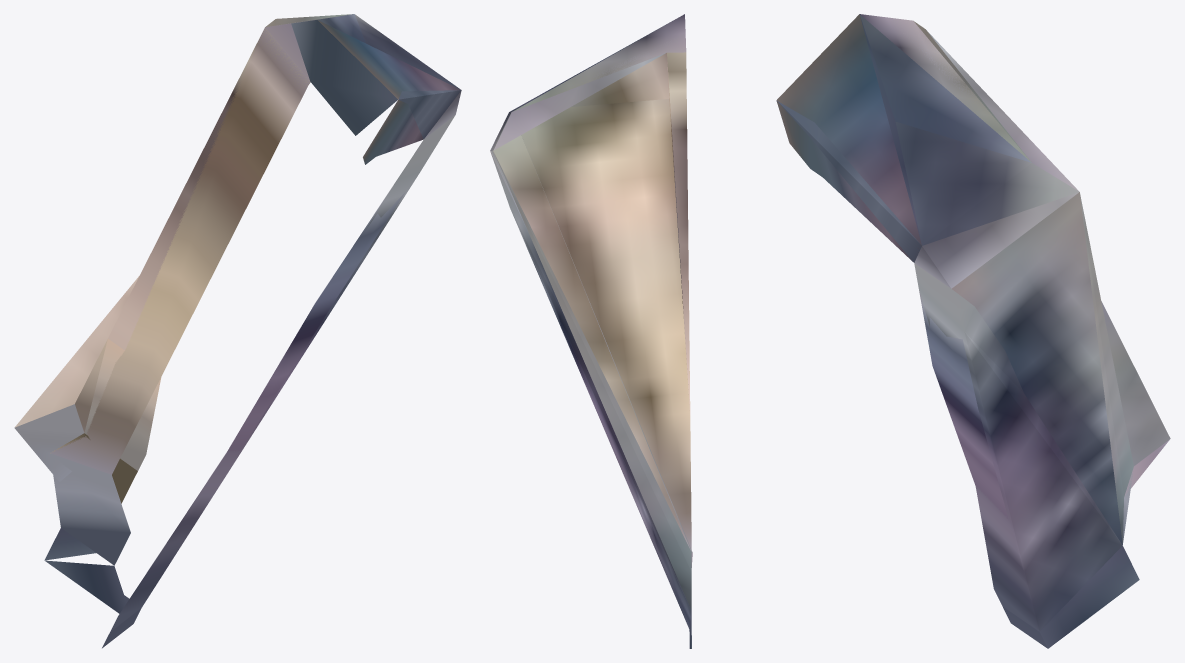
3 views of the same model, side by side, from view 1: azimuth 30°, elevation 25°; view 2: azimuth 150°, elevation 25°; view 3: azimuth 270°, elevation 25° (orthographic). The views are drawn at different scales.
Bounding box in the file's own units: 10.76 × 19.66 × 10.27.
1 material, 1 textured.
